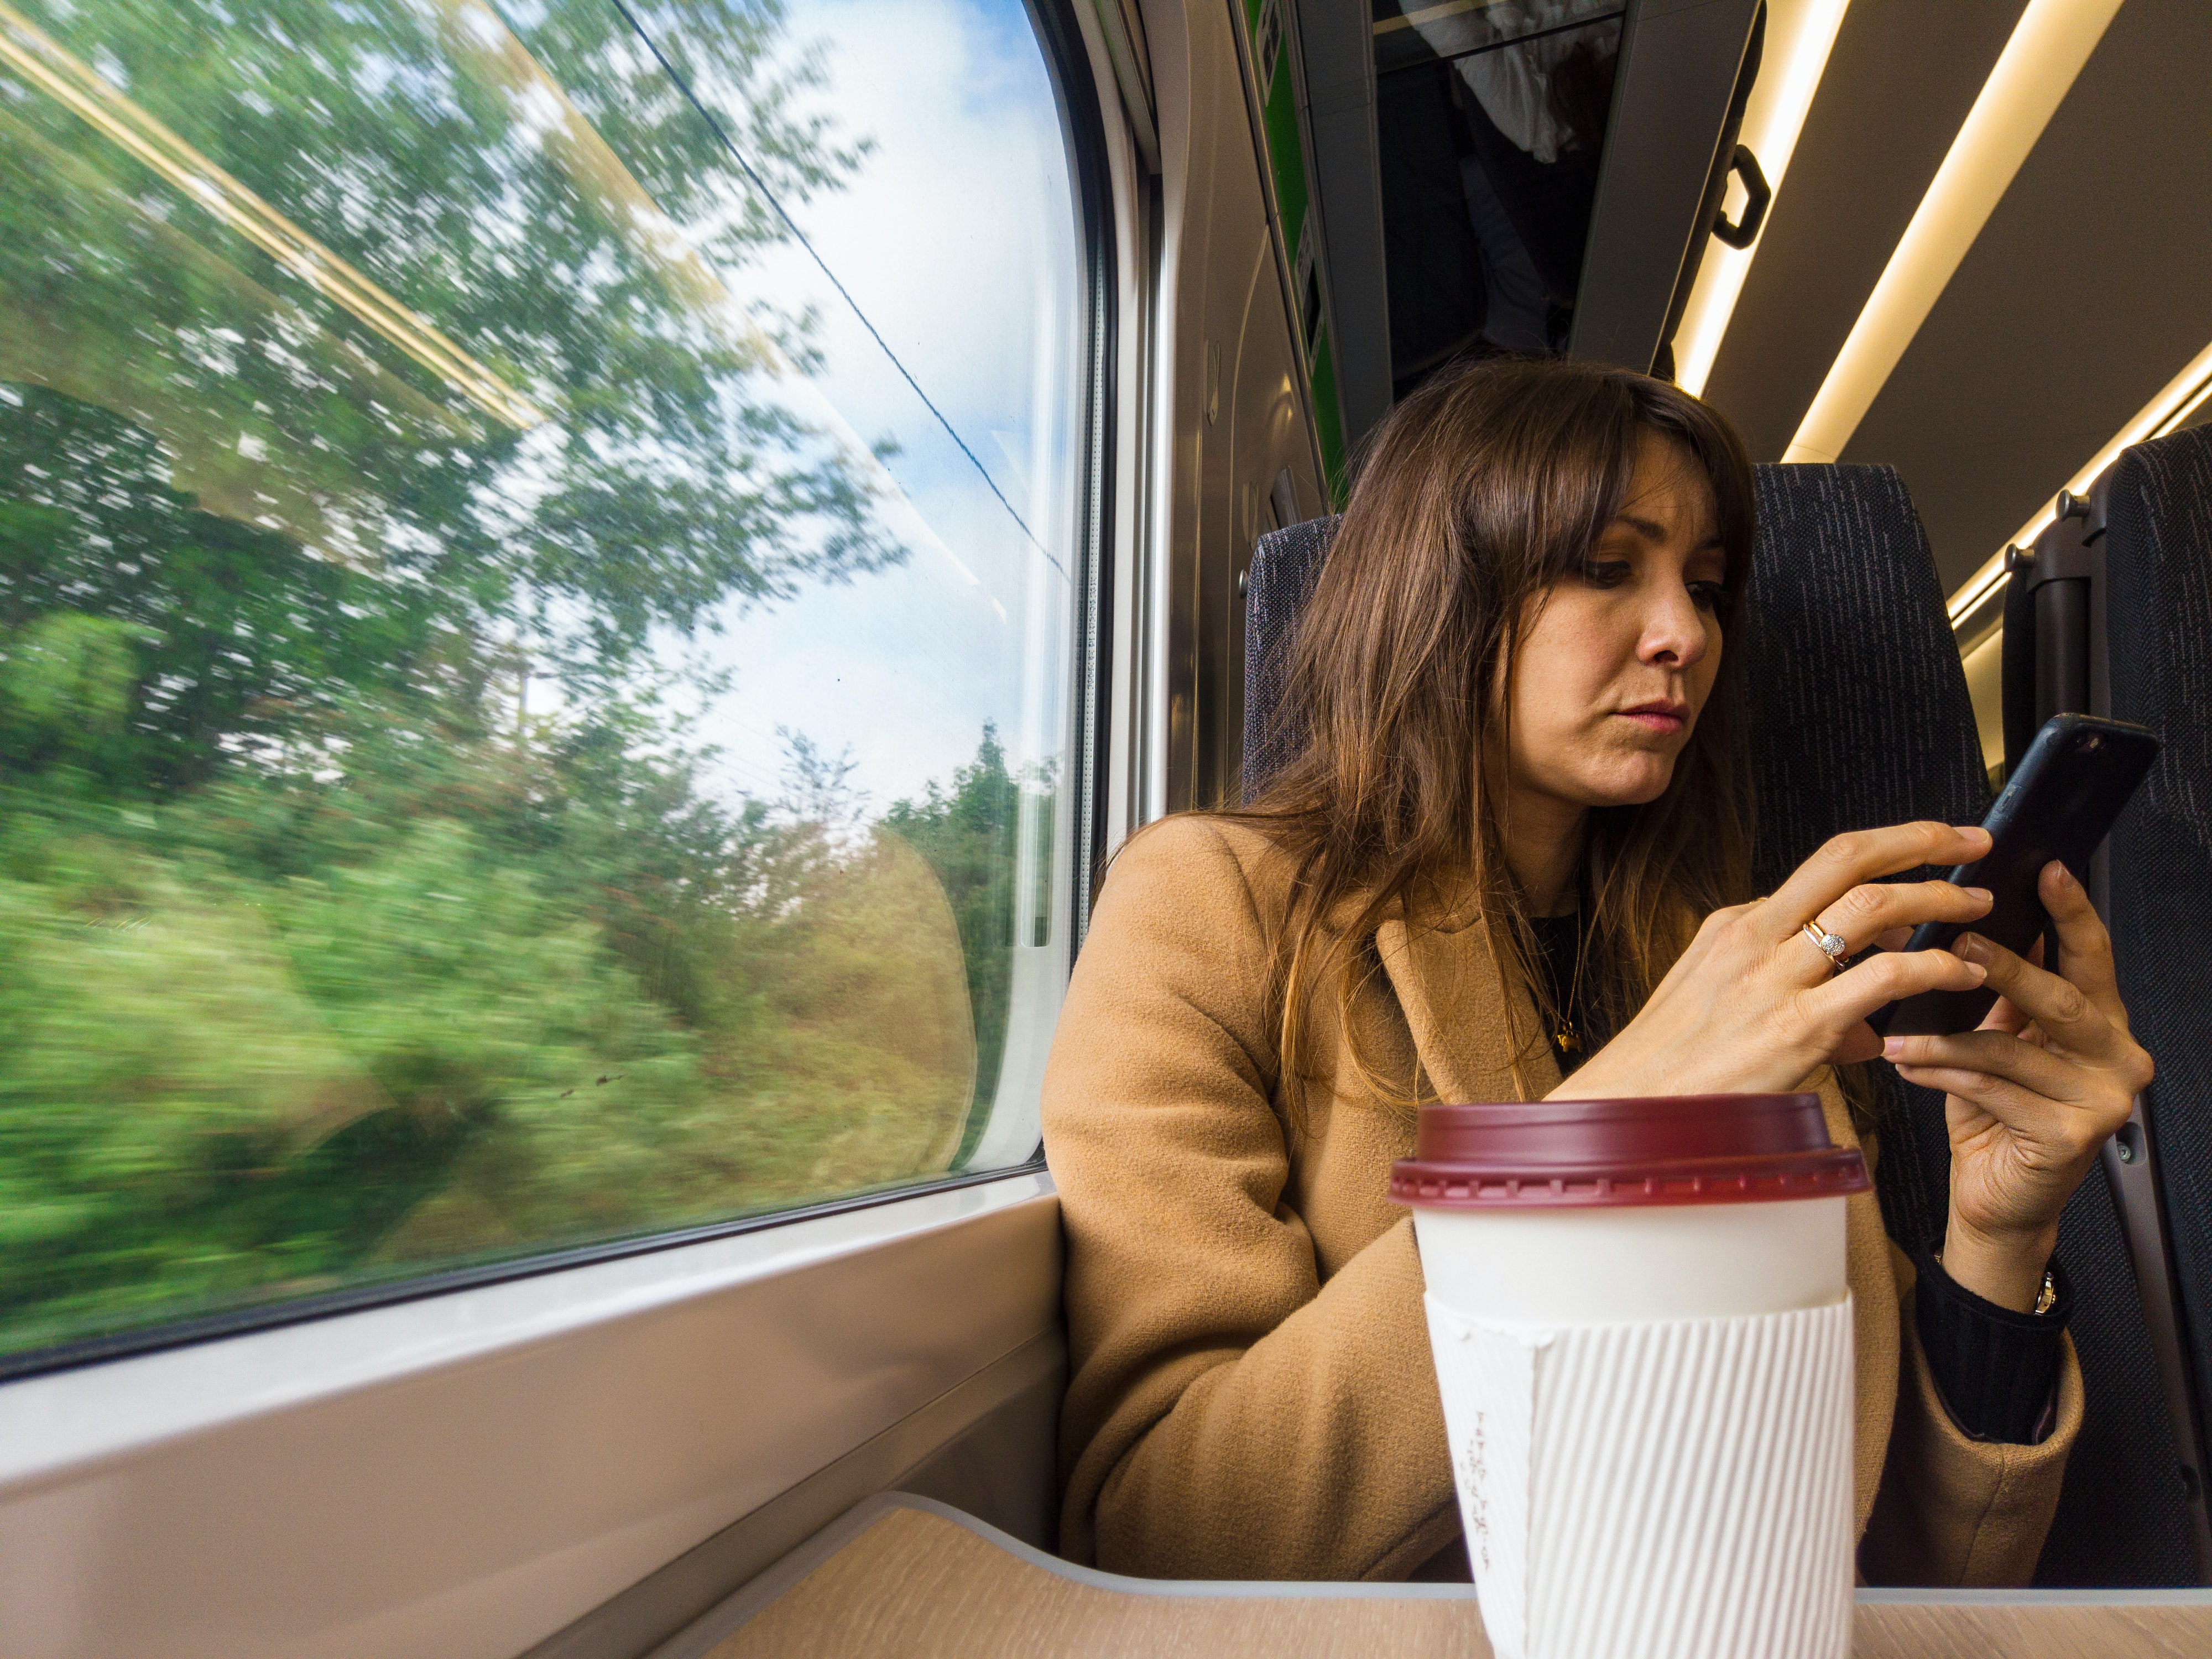no_mask: (1357, 367, 1759, 838)
